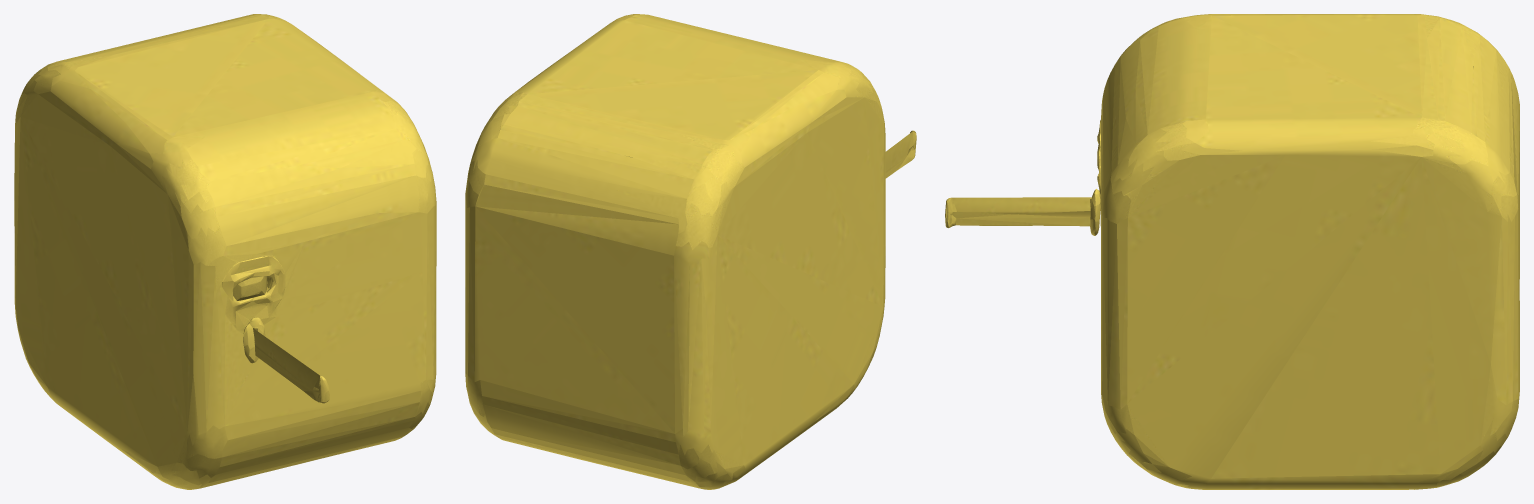
File: sponge.be1e9fb8.glb
The picture shows the model from 3 angles, left to right: view 1: azimuth 30°, elevation 25°; view 2: azimuth 150°, elevation 25°; view 3: azimuth 270°, elevation 25°; orthographic projection. The views are drawn at different scales.
Visible parts, largest first — view 1: output_unwrapped; view 2: output_unwrapped; view 3: output_unwrapped.
Part boxes in pixels (x1,y1,x2,y2): output_unwrapped: (14, 14, 436, 489); output_unwrapped: (465, 14, 916, 489); output_unwrapped: (945, 14, 1519, 489).
Bounding box in the file's own units: 1.02 × 1.35 × 1.9.
Materials: 1 (1 with a texture image).
